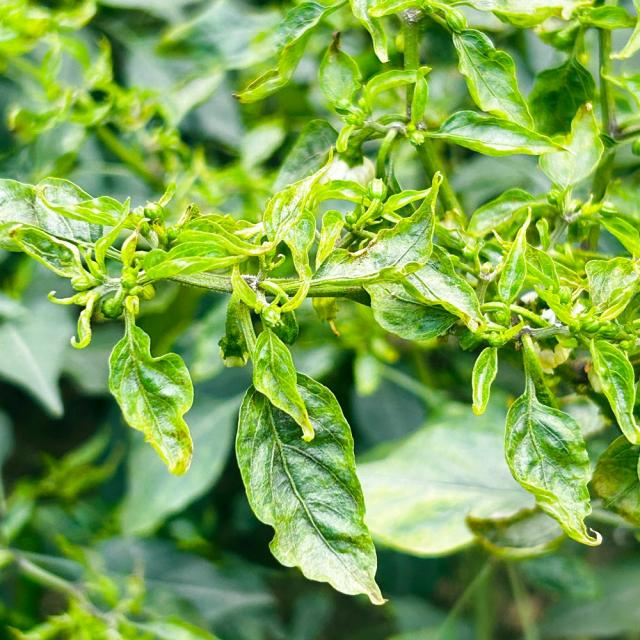Chilli_Leaf_Curl: (0, 0, 638, 607), (233, 365, 388, 605), (502, 336, 603, 547), (106, 310, 195, 477), (250, 327, 316, 442)
